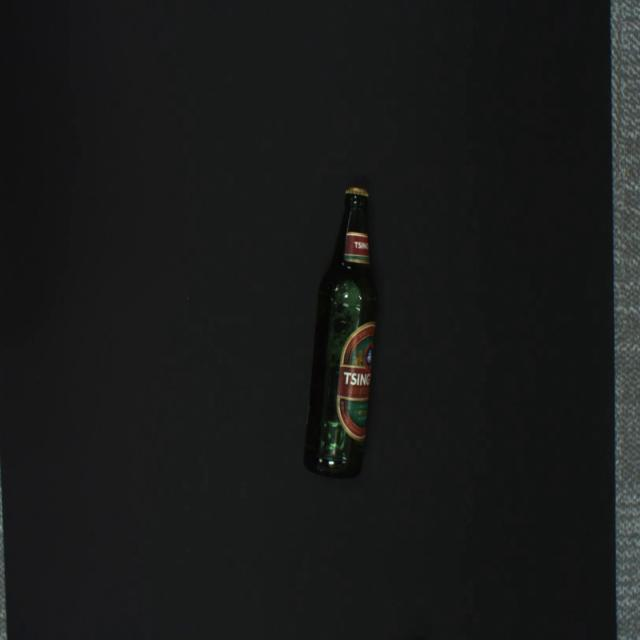beer-bottle: (303, 185, 378, 479)
